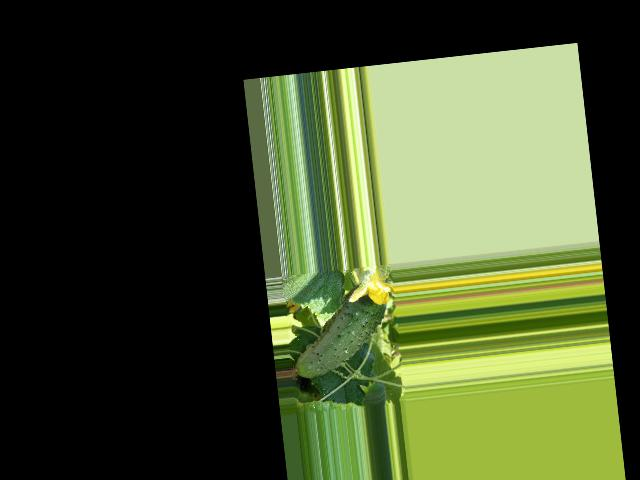cucumber: (282, 282, 393, 380)
